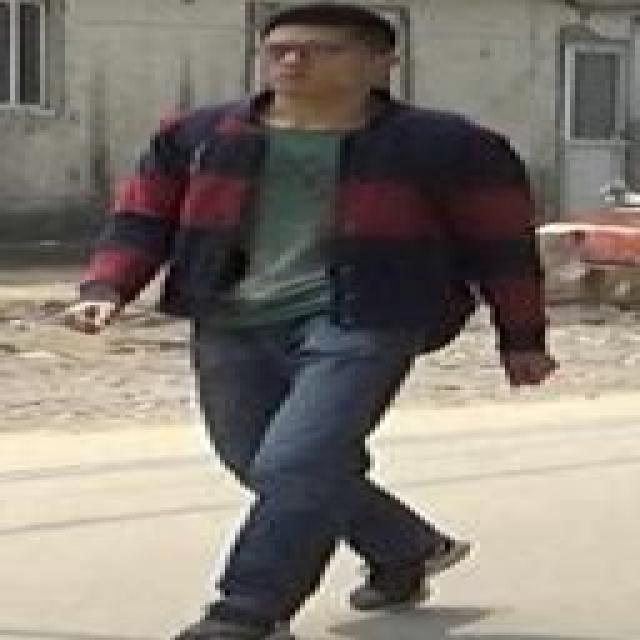adult: (57, 4, 580, 631)
